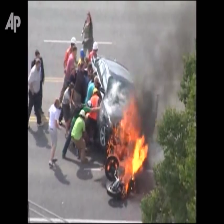fire_h: (106, 95, 148, 192)
fire_l: (107, 159, 118, 171)
